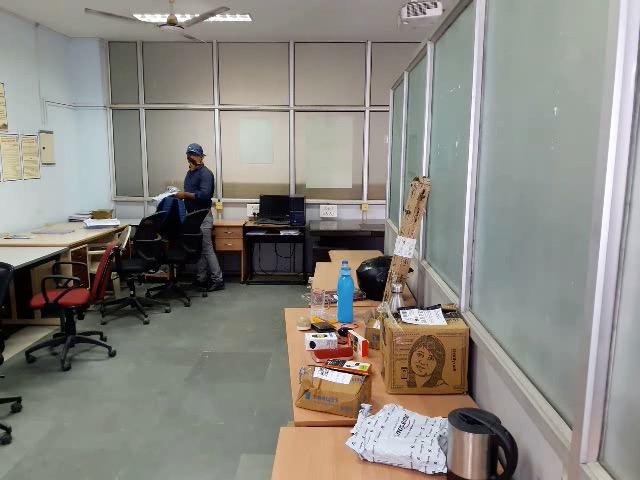shoplifting: (138, 173, 239, 224)
